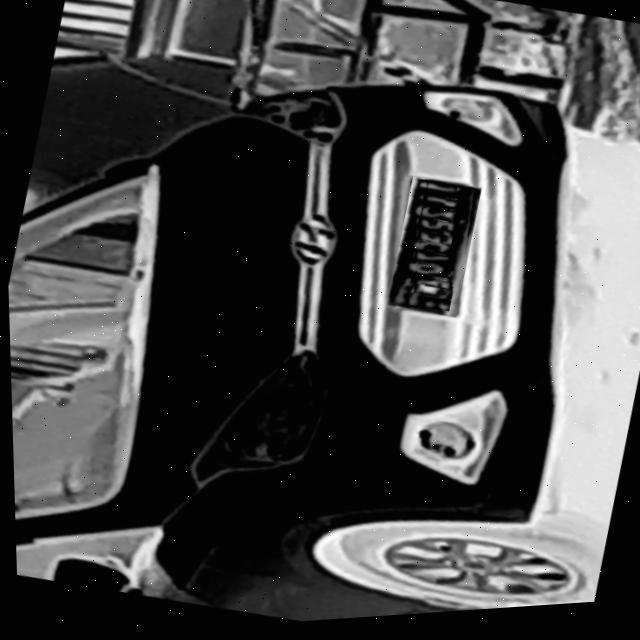0: (414, 265, 450, 284)
1: (420, 196, 456, 214), (423, 185, 456, 203)
2: (418, 209, 454, 229)
5: (415, 220, 455, 240)
7: (411, 253, 447, 271)
C: (416, 244, 452, 261)
E: (415, 232, 451, 252)
IND: (406, 295, 449, 318)
Indian_registered: (386, 184, 474, 316)
M: (411, 285, 452, 306)
P: (409, 277, 451, 296)
